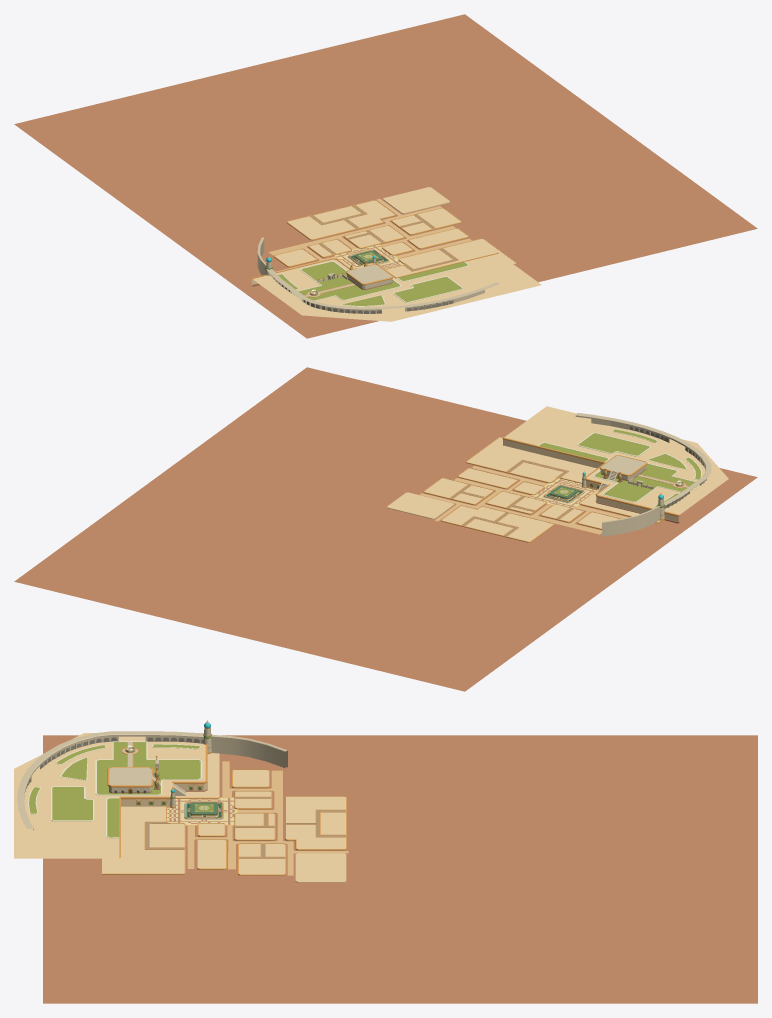
The model's file is Mod_Scene_abasi_dibiao01.FBX.
3 renders of one model, top to bottom at view 1: azimuth 30°, elevation 25°; view 2: azimuth 150°, elevation 25°; view 3: azimuth 270°, elevation 25°, orthographic. The views are drawn at different scales.
Visible parts, largest first — view 1: Mod_Scene_abasi_dibiao01; view 2: Mod_Scene_abasi_dibiao01; view 3: Mod_Scene_abasi_dibiao01.
Part boxes in pixels (bbox=[...]): Mod_Scene_abasi_dibiao01: bbox=[14, 14, 757, 338]; Mod_Scene_abasi_dibiao01: bbox=[14, 367, 757, 691]; Mod_Scene_abasi_dibiao01: bbox=[14, 720, 757, 1003].
Bounding box in the file's own units: 31002 × 1872 × 36309.
Materials: 1 (1 with a texture image).
